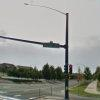Tree: (41, 60, 61, 85)
